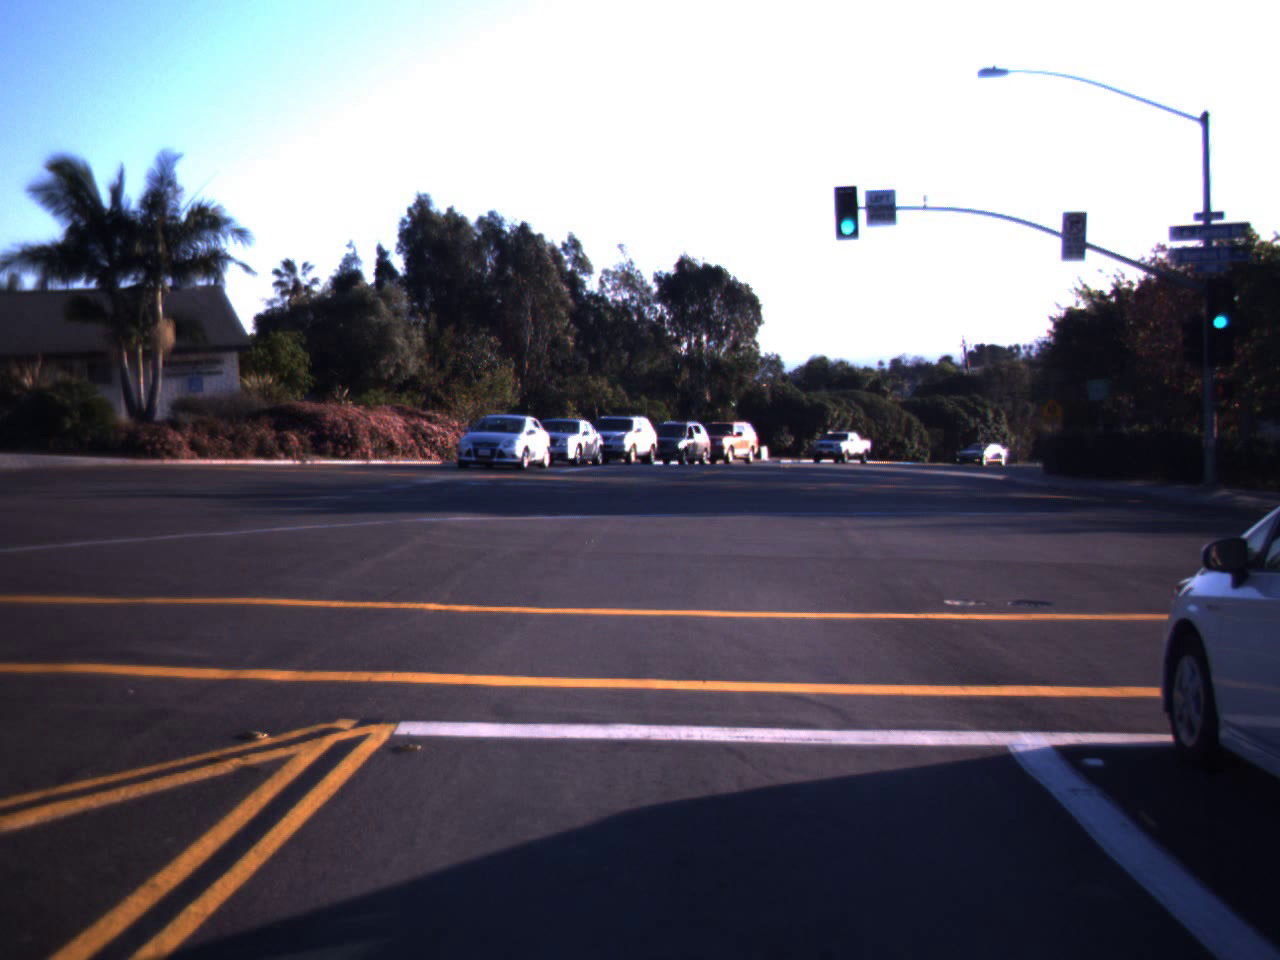go: (830, 175, 866, 240), (1202, 278, 1238, 333)
